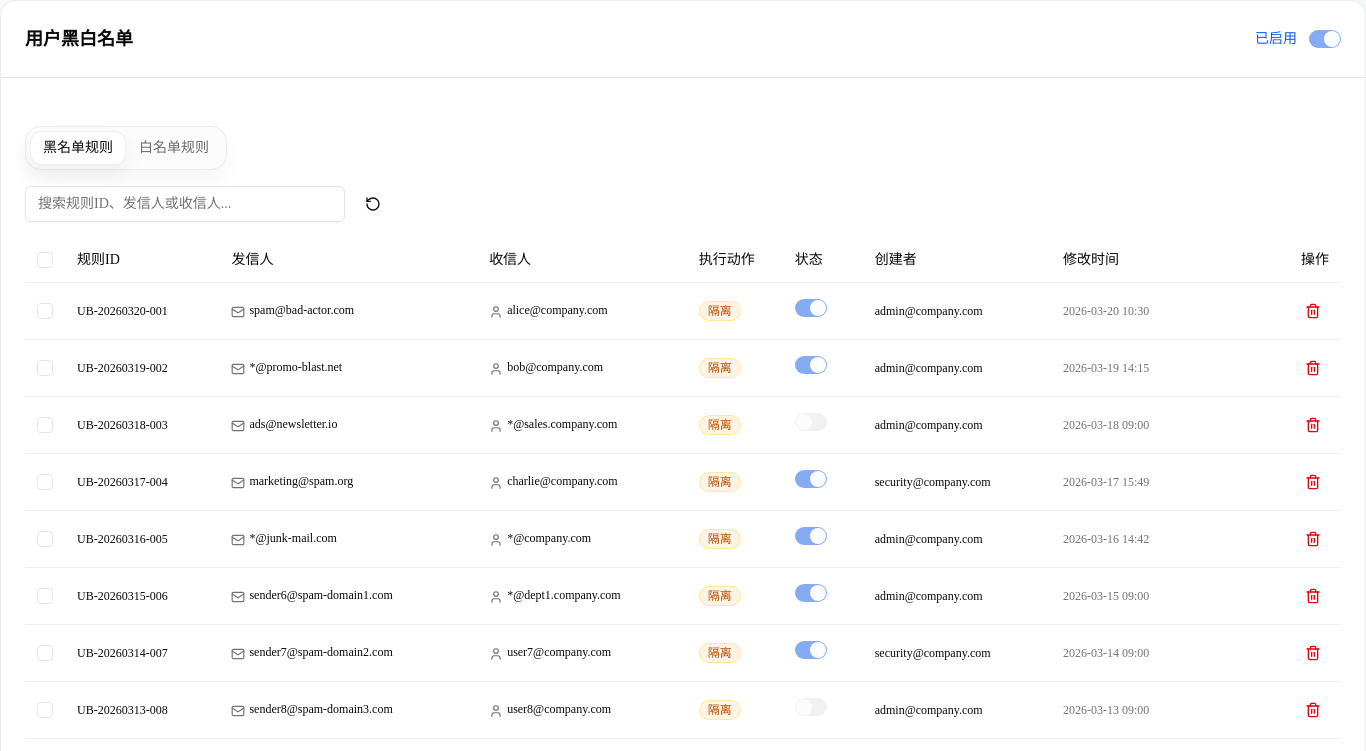
Test case: UserListPage › selection is cleared when switching tabs
Expected: the text "UB-20260320-001" is shown, left=65, top=282, right=219, bottom=339
Click the checkbox named "选择 UB-20260320-001" at (45, 310), box left=37, top=302, right=53, bottom=318
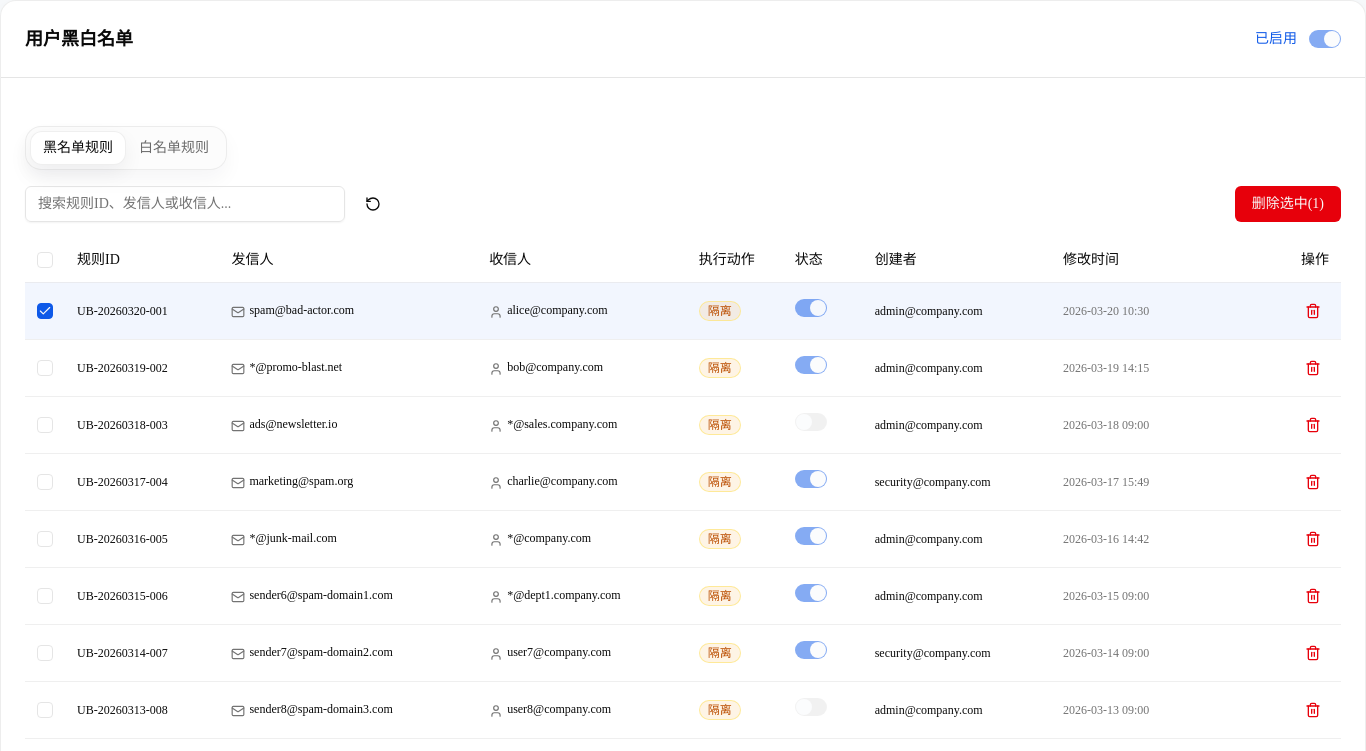
Expected: the button "删除选中(1)" is shown, left=1235, top=186, right=1341, bottom=222
Click the tab "白名单规则" at (174, 148), box left=126, top=131, right=222, bottom=165
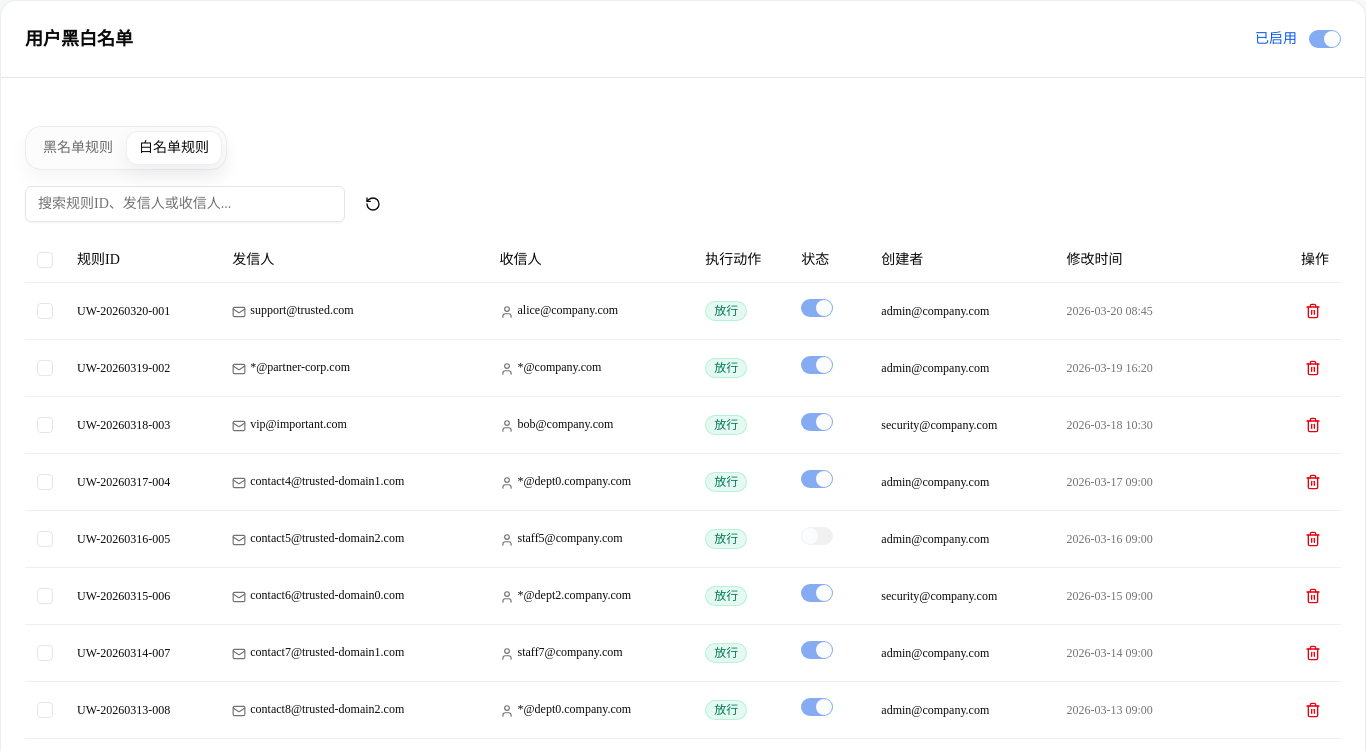
Expected: the button "删除选中" is gone
